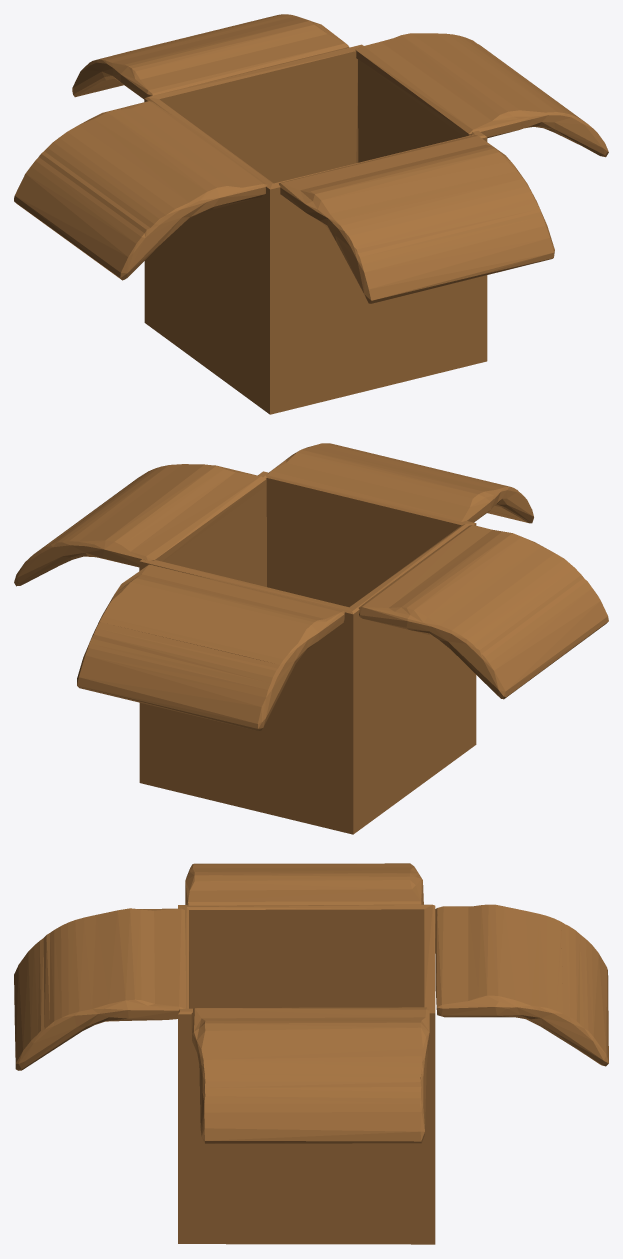
Rendered from umgeknicktesPaket.glb.
3 renders of one model, top to bottom at view 1: azimuth 30°, elevation 25°; view 2: azimuth 150°, elevation 25°; view 3: azimuth 270°, elevation 25°, orthographic. The views are drawn at different scales.
Visible parts, largest first — view 1: 23_02_03_06_01_50_711_1, 23_02_03_06_01_50_711_0; view 2: 23_02_03_06_01_50_711_1, 23_02_03_06_01_50_711_0; view 3: 23_02_03_06_01_50_711_1, 23_02_03_06_01_50_711_0.
Part boxes in pixels (x1=…): 23_02_03_06_01_50_711_1: x1=14, y1=14, x2=608, y2=303; 23_02_03_06_01_50_711_0: x1=144, y1=44, x2=487, y2=414; 23_02_03_06_01_50_711_1: x1=14, y1=443, x2=608, y2=730; 23_02_03_06_01_50_711_0: x1=139, y1=471, x2=476, y2=834; 23_02_03_06_01_50_711_1: x1=14, y1=863, x2=608, y2=1143; 23_02_03_06_01_50_711_0: x1=178, y1=904, x2=435, y2=1244.
Bounding box in the file's own units: 13.25 × 5.94 × 13.45.
Materials: 2 (2 with a texture image).
